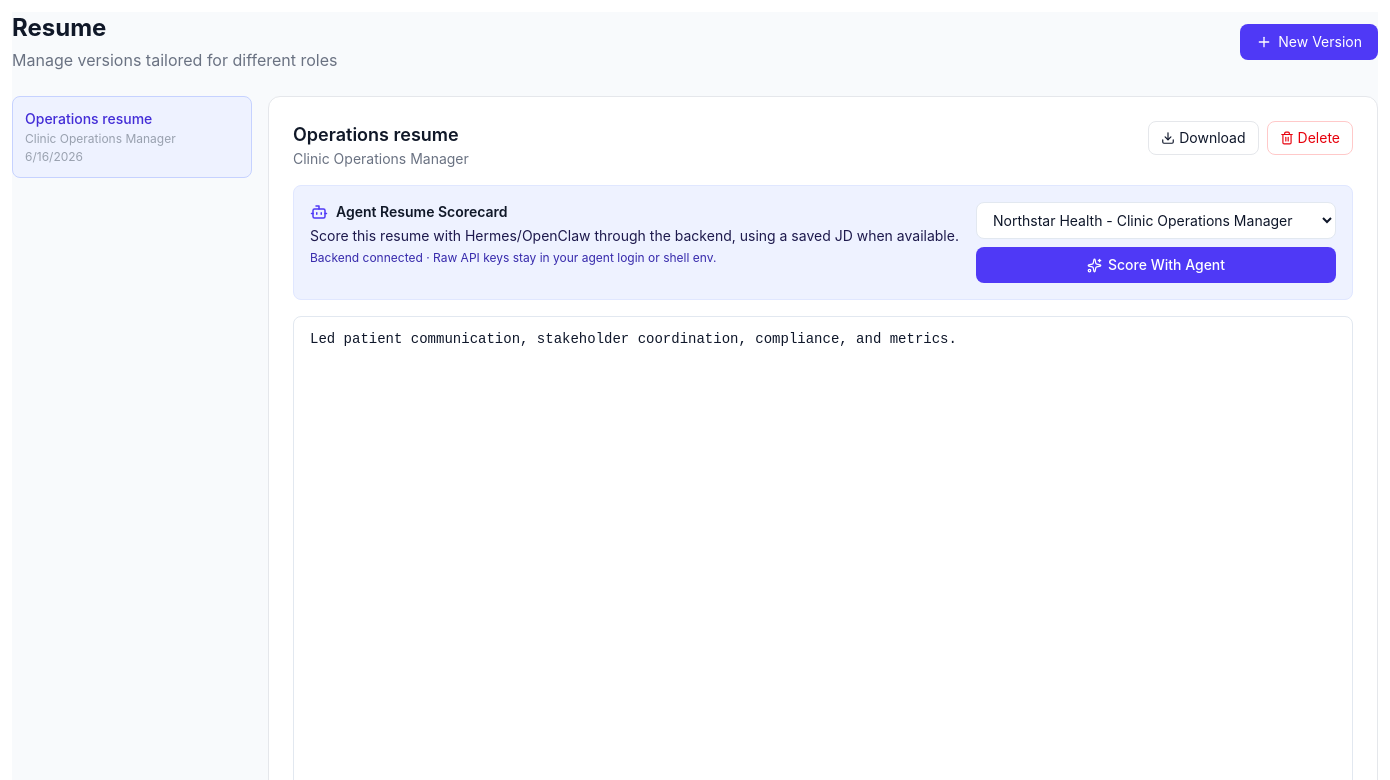
Test: Resume agent scorecard › scores the selected resume against a saved JD through the backend
This screenshot has width=1390, height=780.
Expected: the heading "Agent Resume Scorecard" is shown, [336, 202, 508, 222]
Click the button "Score With Agent" at (1156, 265), box [976, 247, 1336, 283]
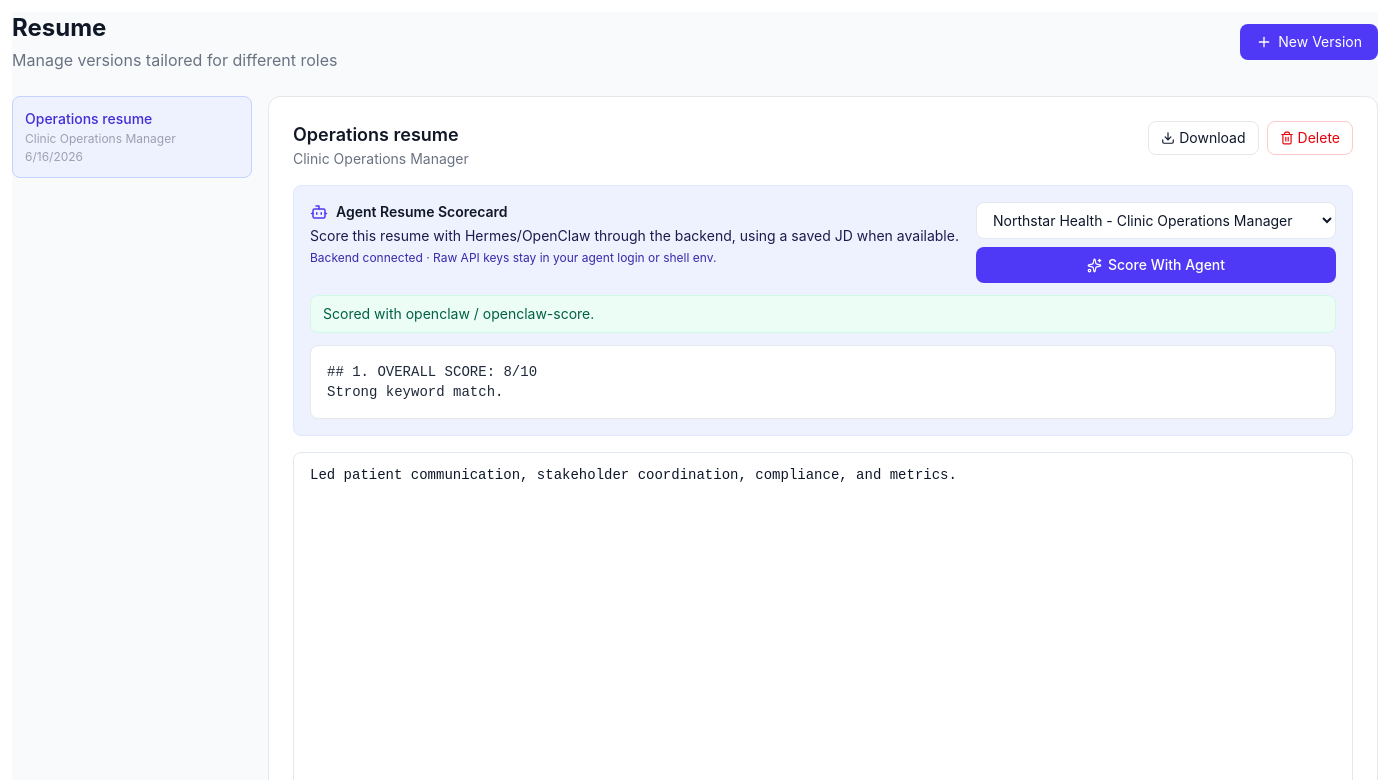
Now the text "Scored with openclaw / openclaw-score." is shown, box [310, 295, 1336, 333]
Now the text "## 1. OVERALL SCORE: 8/10 Strong keyword match." is shown, box [310, 345, 1336, 419]
